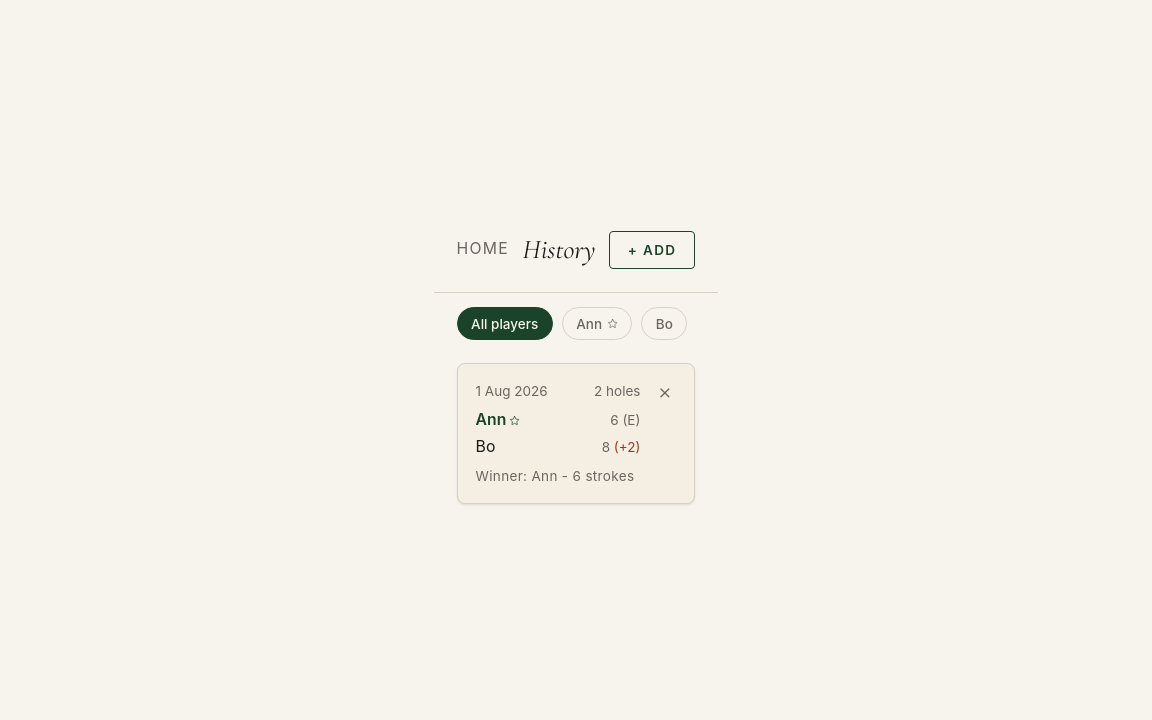
History - loading and deleting (#99) › a failed delete keeps the round, says so, and leaves the sheet open
The image size is (1152, 720).
Click the button named "Delete round". click: (665, 393)
box: [640,368,690,418]
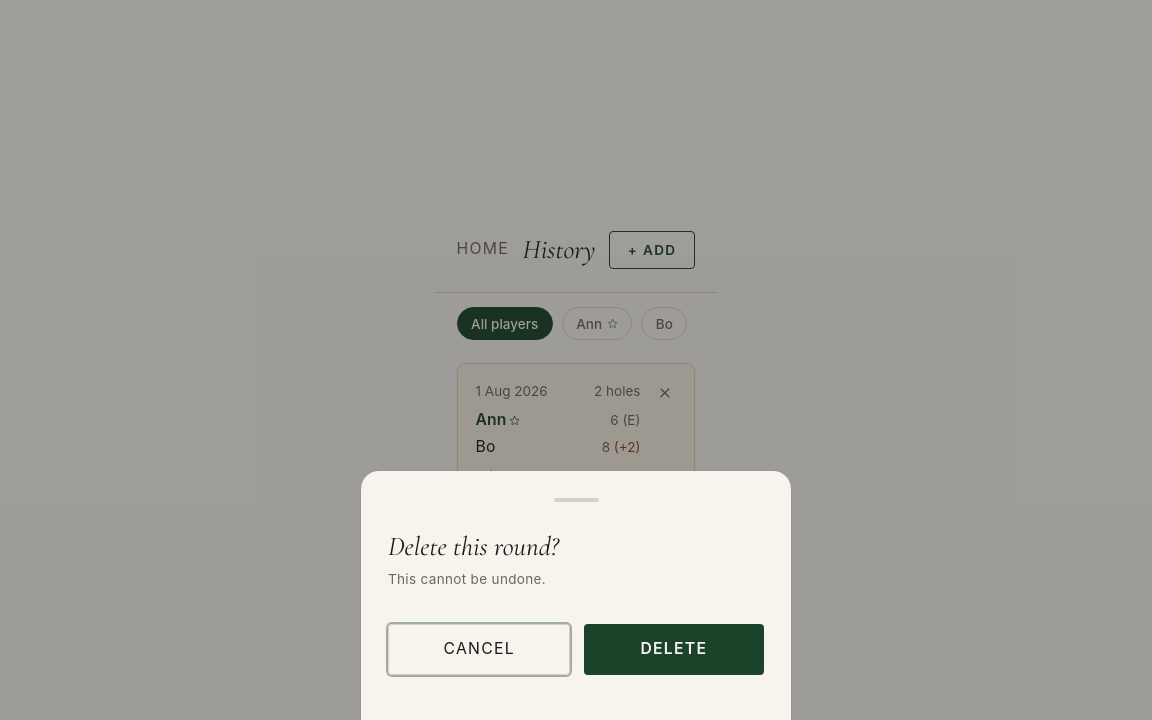
Click the button "Delete". click: (674, 649)
box: [584,624,764,675]
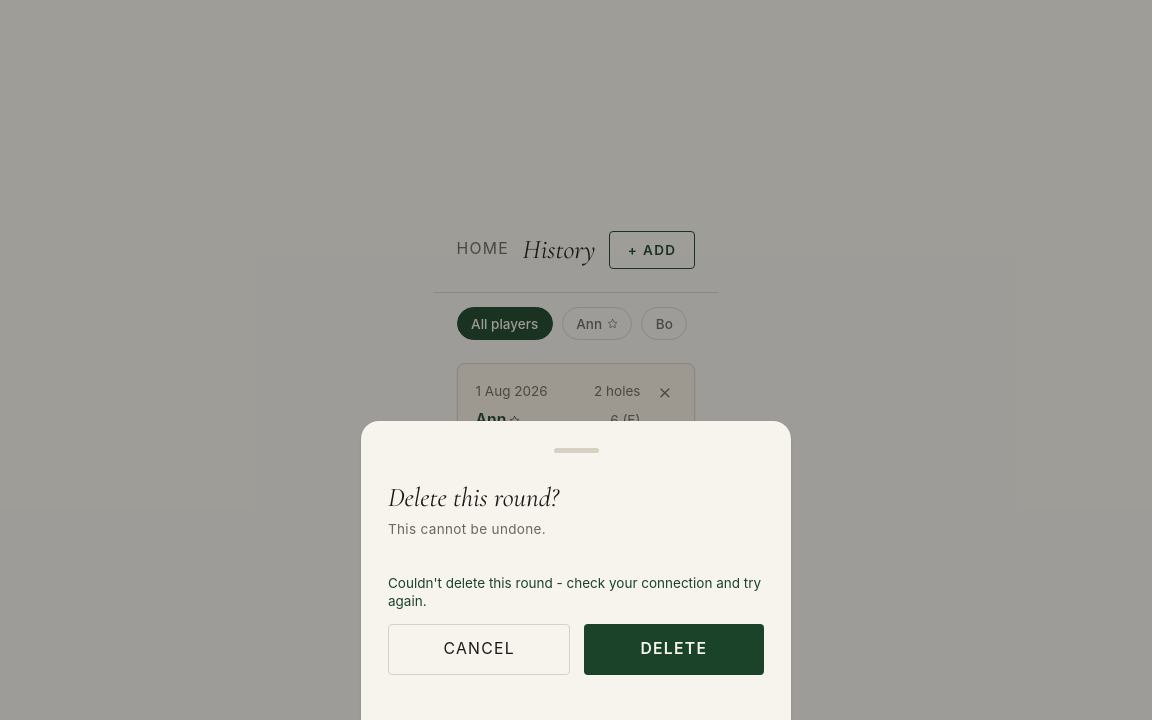
expect the button named "Open round" is shown: met, box [458,364,694,503]
expect the dialog is shown: met, box [361,421,791,719]
expect the text "Couldn't delete this round - check your connection and try again." is shown: met, box [388,574,764,610]
